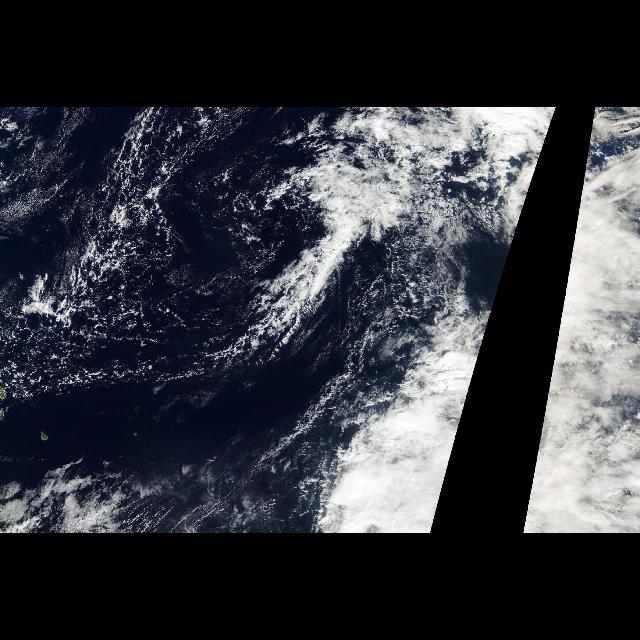Fish: (234, 114, 423, 370)
Gravel: (9, 109, 300, 407)
